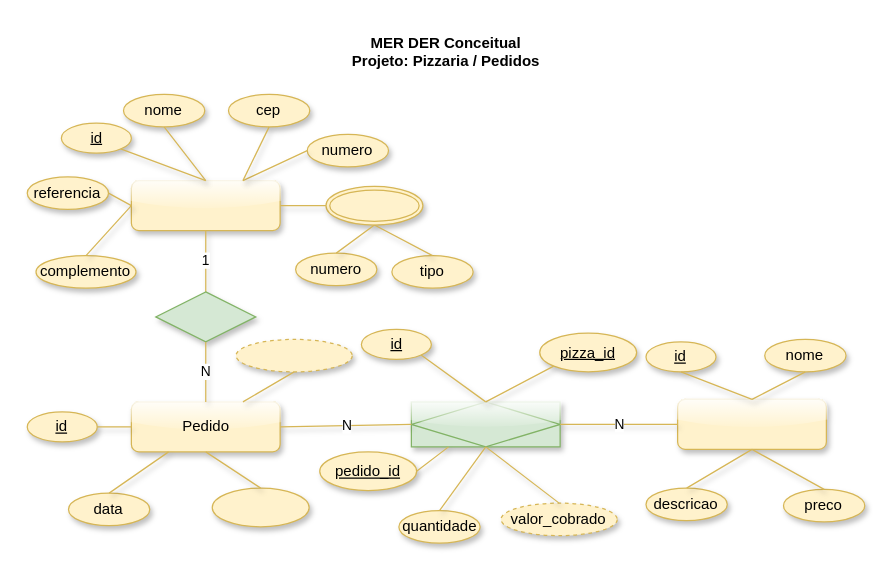
Some shapes in this 894 by 574 pixel diagram are drawn without their labels. Each missing label, with the centre of its shape:
Cliente: the point at 206,206
cliente_id: the point at 261,509
Faz: the point at 206,318
Itens_pedido: the point at 486,426
Pizza: the point at 752,425
telefones: the point at 375,207
valor_total: the point at 295,357
